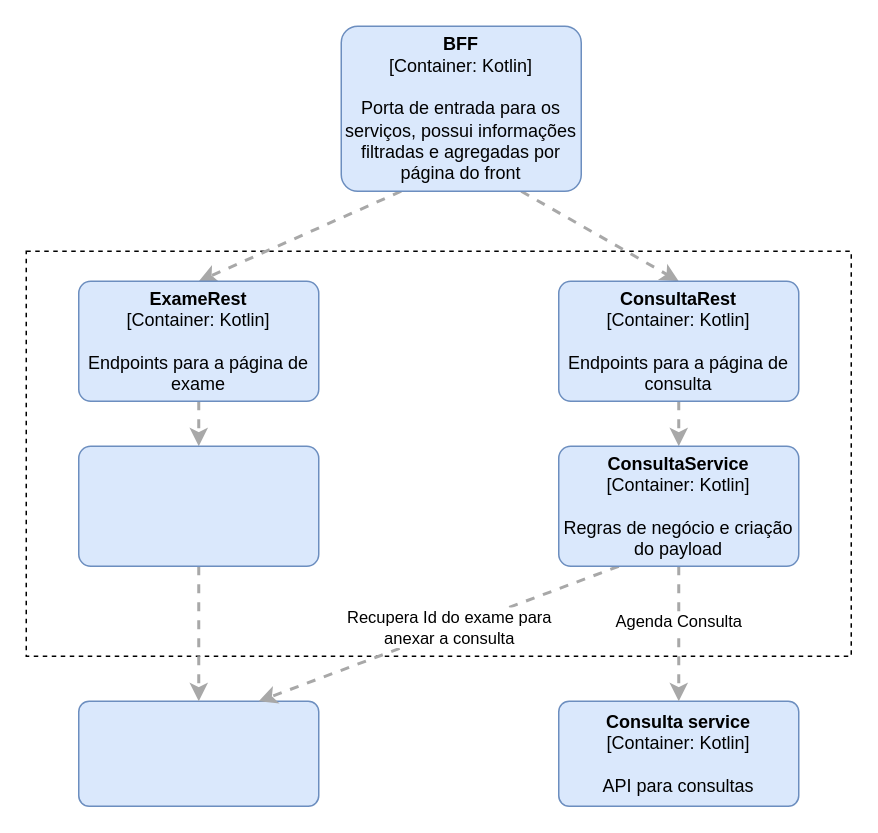
Image size: 878x833. Some labels were removed from this diagram. The box of each missing label's shape, as (x1, y1, x2, y2) in pixels:
Exame service [Container: Kotlin ] API para exames: (77, 700, 319, 806)
ExameService [Container: Kotlin ] Regras de negócio e criação do payload: (77, 445, 319, 566)
